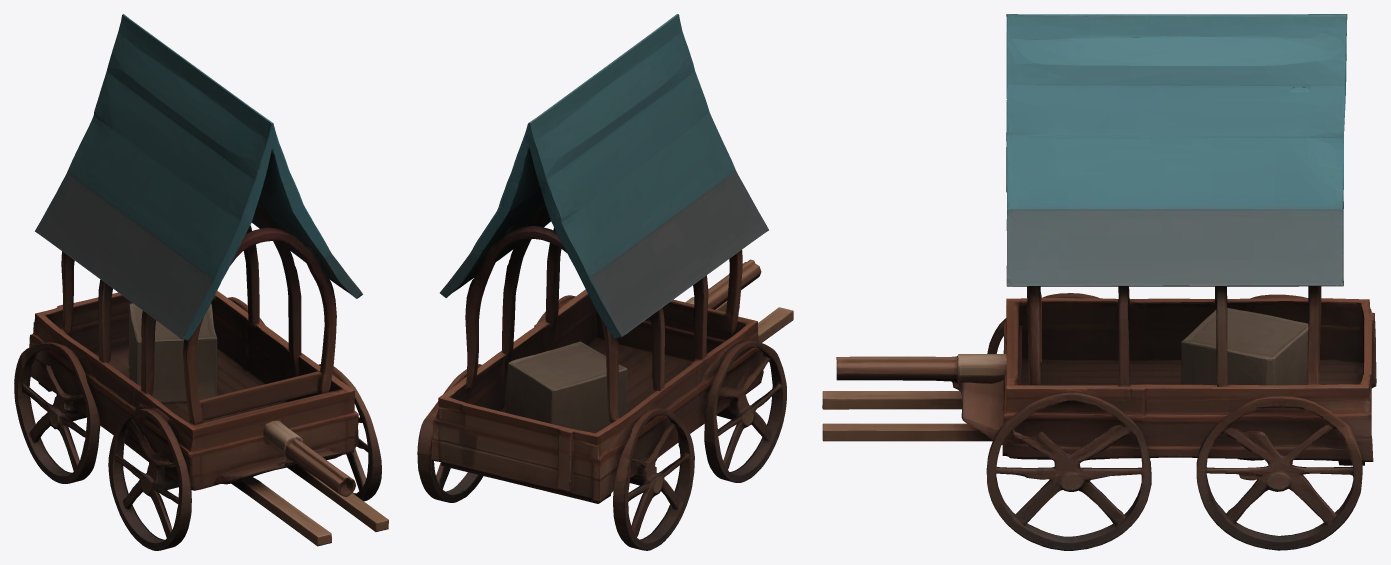
Rendered from voxhammer_t02.glb.
3 renders of one model, left to right at view 1: azimuth 30°, elevation 25°; view 2: azimuth 150°, elevation 25°; view 3: azimuth 270°, elevation 25°, orthographic. The views are drawn at different scales.
Visible parts, largest first — view 1: geometry_0; view 2: geometry_0; view 3: geometry_0.
Part boxes in pixels (left/top/right/bottom): geometry_0: left=14, top=14, right=388, bottom=550; geometry_0: left=417, top=14, right=793, bottom=550; geometry_0: left=822, top=14, right=1376, bottom=550.
Bounding box in the file's own units: 0.9662 × 1.87 × 1.96.
Materials: 1 (1 with a texture image).
